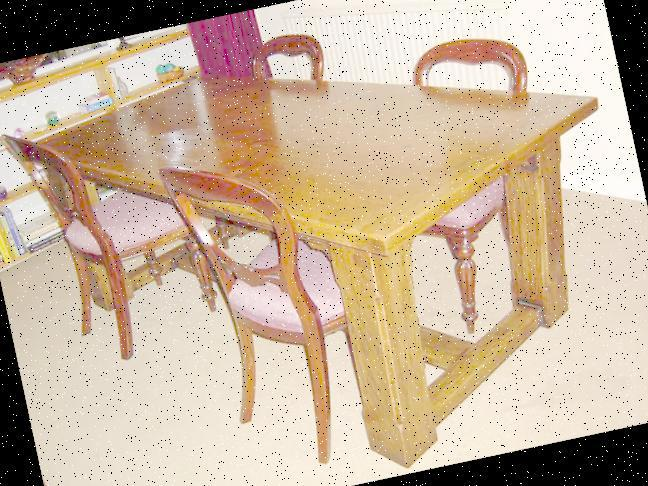Mesa: (9, 0, 647, 485)
Silla: (152, 116, 444, 485), (326, 32, 594, 350), (0, 97, 232, 373), (201, 24, 375, 252)
